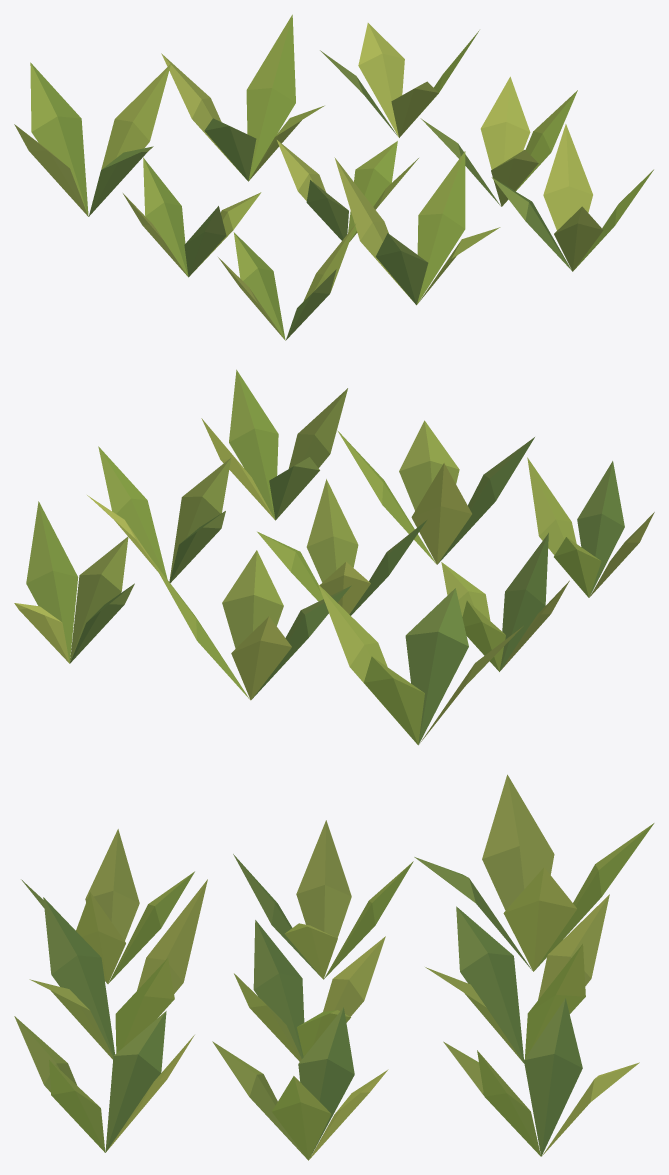
File: young.glb
3 renders of one model, top to bottom at view 1: azimuth 30°, elevation 25°; view 2: azimuth 150°, elevation 25°; view 3: azimuth 270°, elevation 25°, orthographic. The views are drawn at different scales.
Parts seen in each view (by area): view 1: Jungpflanzen; view 2: Jungpflanzen; view 3: Jungpflanzen.
Part boxes in pixels (box(x1,y1,x2,y2)): Jungpflanzen: box(14, 14, 653, 340); Jungpflanzen: box(14, 369, 654, 745); Jungpflanzen: box(14, 774, 654, 1160).
Size of the model in its own units: 1.11 by 0.2976 by 1.07.
